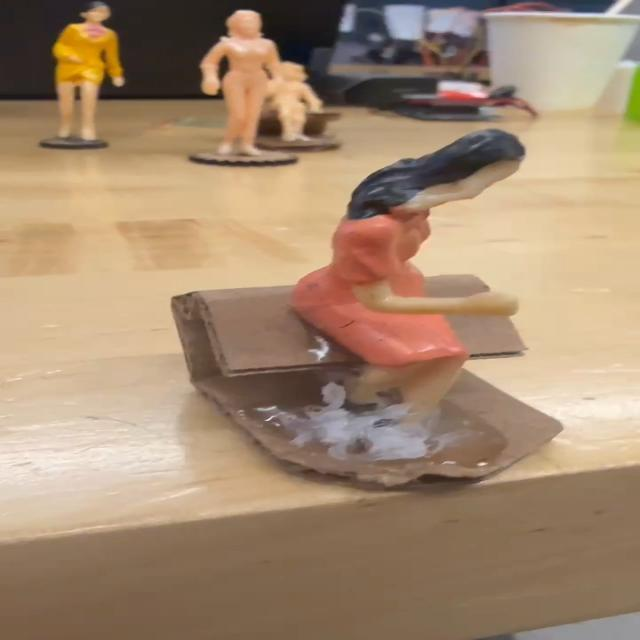Authorized: (207, 130, 588, 473)
